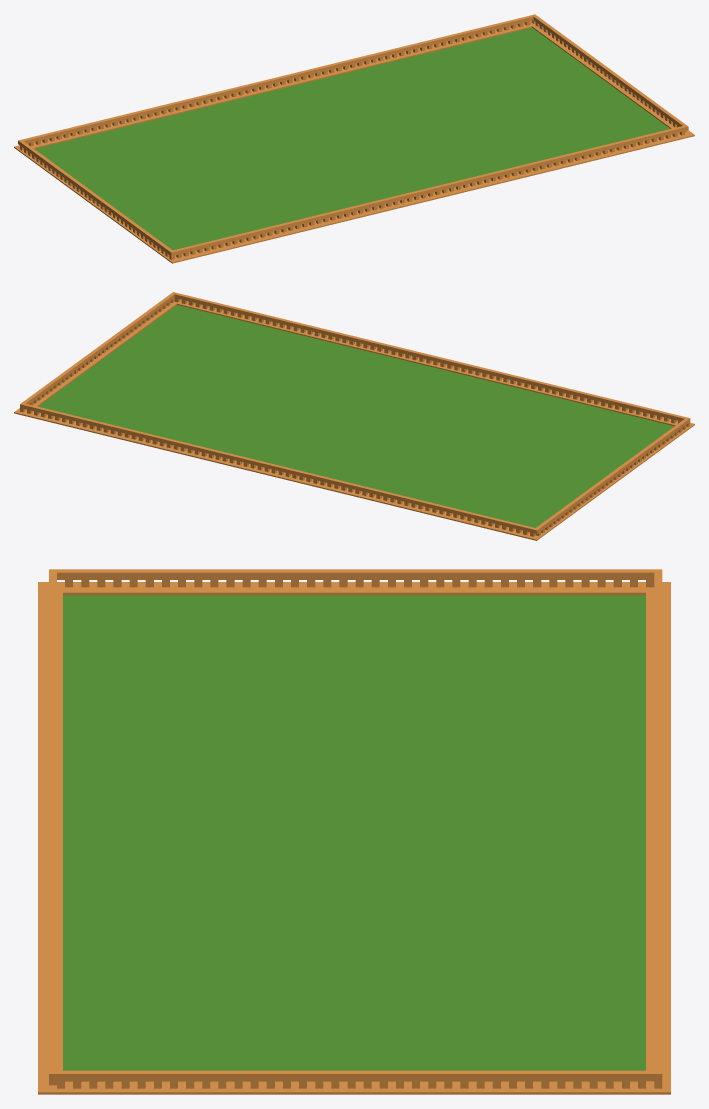
The model's file is pig_farm.fbx.
The picture shows the model from 3 angles, top to bottom: view 1: azimuth 30°, elevation 25°; view 2: azimuth 150°, elevation 25°; view 3: azimuth 270°, elevation 25°; orthographic projection. The views are drawn at different scales.
Visible parts, largest first — view 1: Cube.004; view 2: Cube.004; view 3: Cube.004.
Boxes of the visible parts, left/top/right/bottom form: Cube.004: left=14, top=14, right=694, bottom=263; Cube.004: left=14, top=292, right=694, bottom=540; Cube.004: left=38, top=569, right=670, bottom=1094.
Bounding box in the file's own units: 22.68 × 0.3521 × 11.9.
